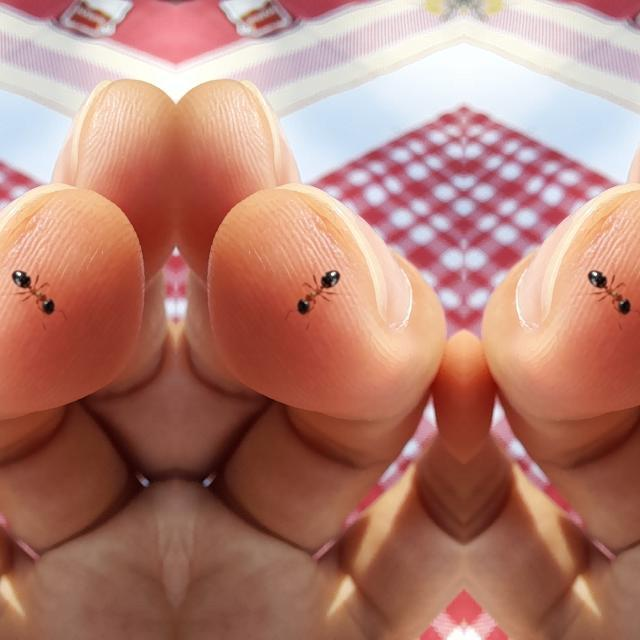Dolichoderus: (292, 244, 344, 324), (8, 244, 60, 324), (584, 244, 636, 324)
